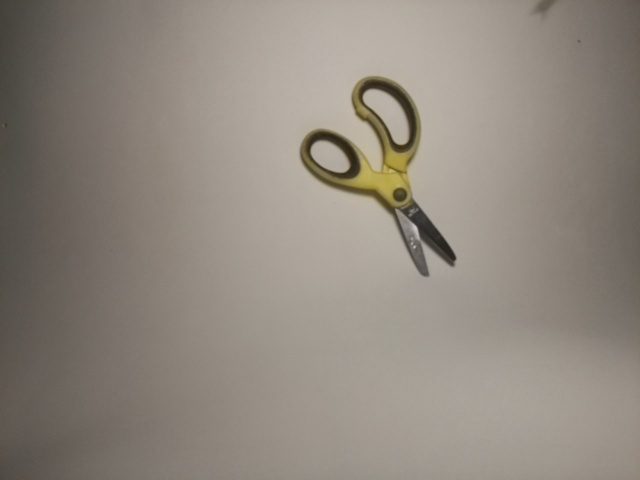Tesoura: (283, 71, 478, 278)
